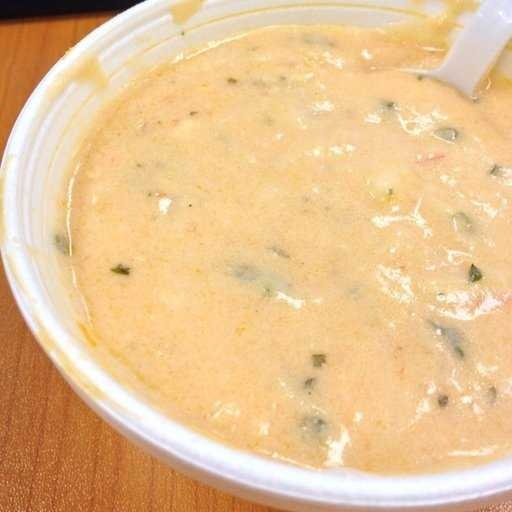soup: (39, 26, 512, 480)
